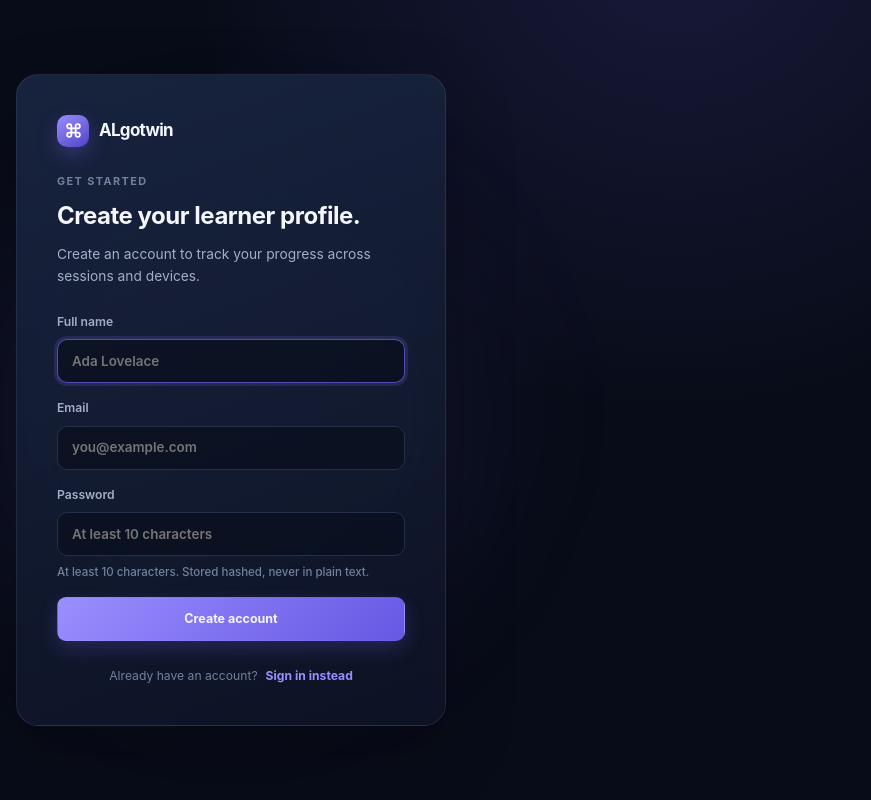
Test: RegisterPage › blocks submission of a password shorter than the policy
Type "Grace Hopper" into the field labelled "Full name".
click(231, 361); type("Grace Hopper")  # box [57,339,405,383]
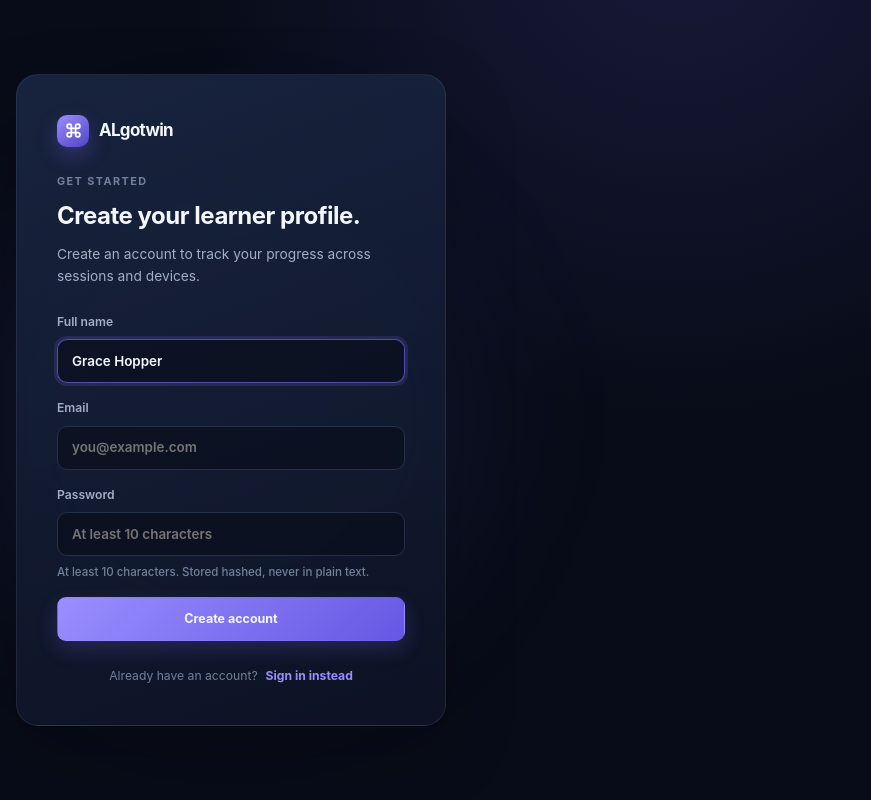
Type "grace@example.com" into the field labelled "Email".
click(231, 448); type("grace@example.com")  # box [57,426,405,470]
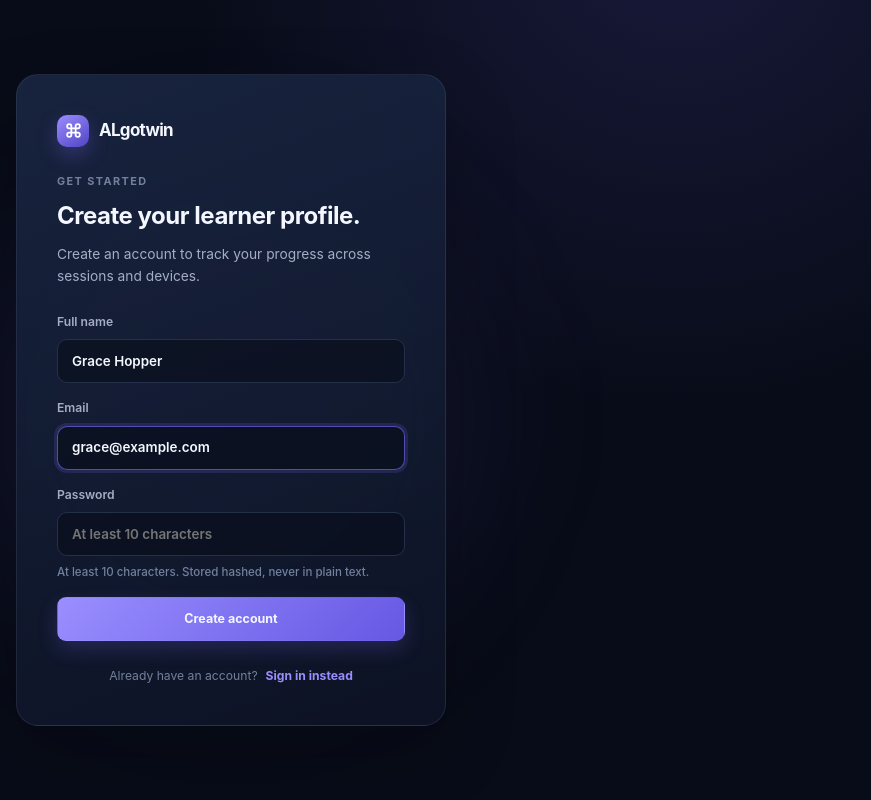
Type "short" into the password field labelled "Password".
click(231, 534); type("short")  # box [57,512,405,556]
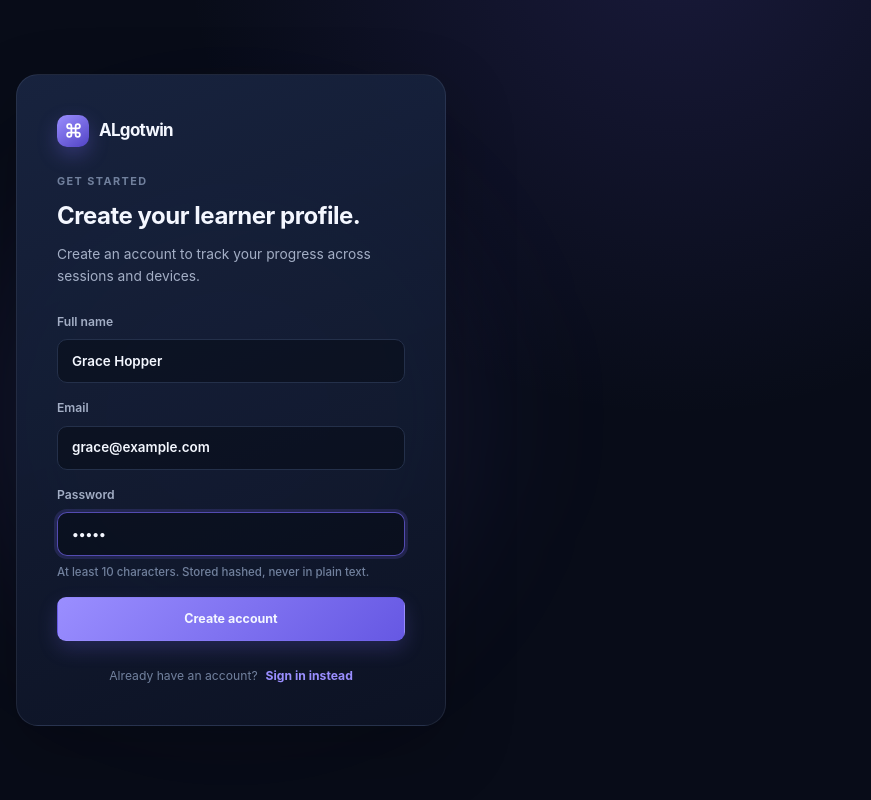
Click the button "Create account".
click(231, 619)  # box [57,597,405,641]
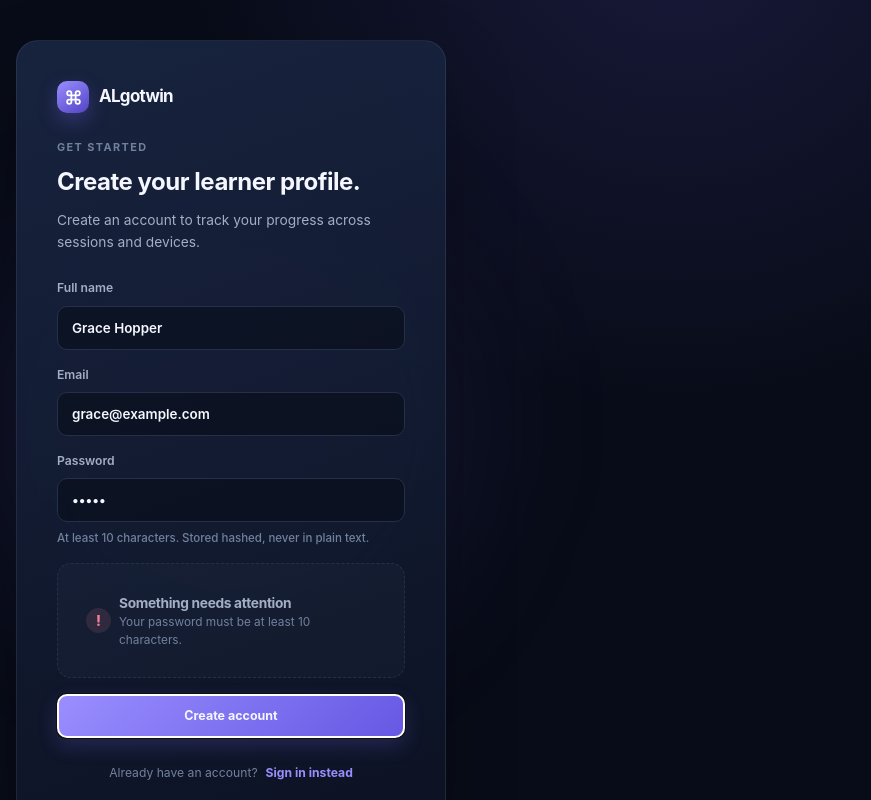
Expected: the text "Your password must be at least 10 characters." is shown, [119,615,310,647]
